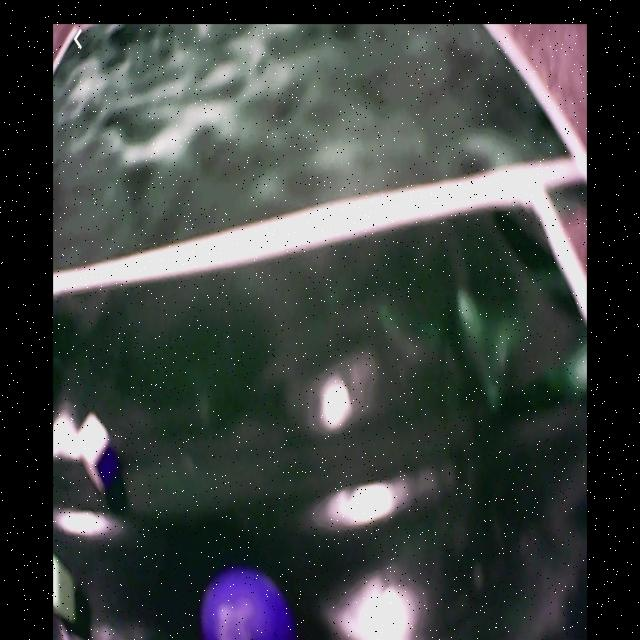ball: (204, 571, 291, 640)
